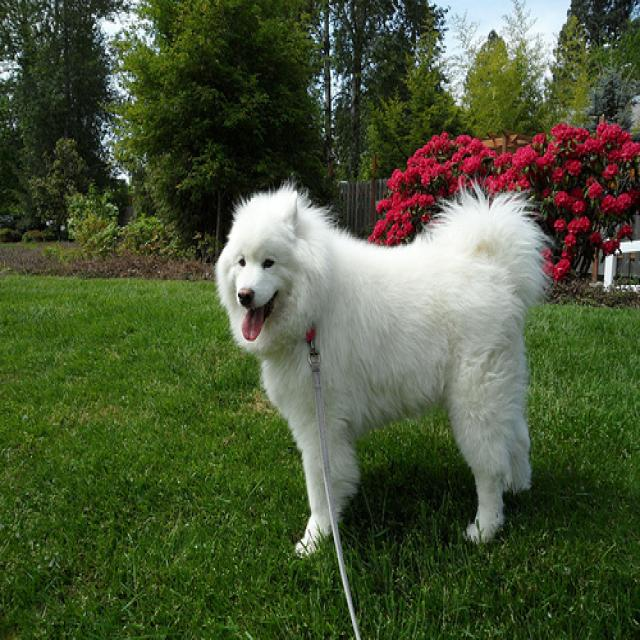dog-samoyed: (205, 176, 556, 563)
